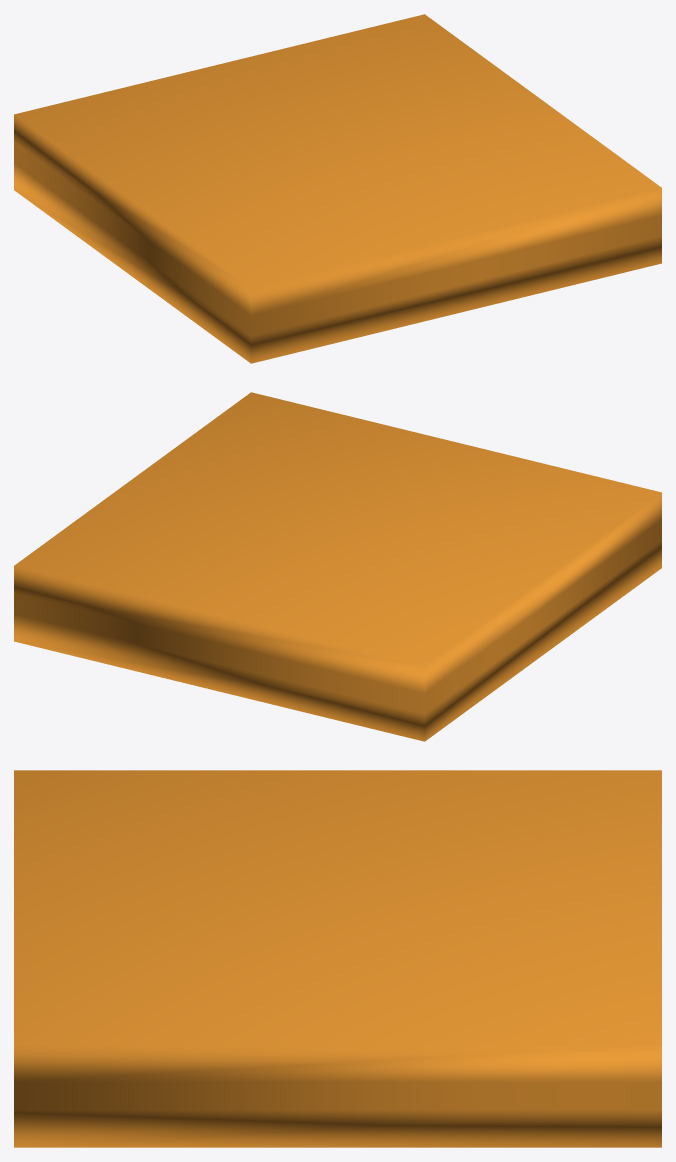
The model's file is paninferior.glb.
The picture shows the model from 3 angles, top to bottom: view 1: azimuth 30°, elevation 25°; view 2: azimuth 150°, elevation 25°; view 3: azimuth 270°, elevation 25°; orthographic projection. The views are drawn at different scales.
Parts seen in each view (by area): view 1: Panbase.001; view 2: Panbase.001; view 3: Panbase.001.
Part boxes in pixels (box(x1,y1,x2,y2)): Panbase.001: box(14, 14, 661, 363); Panbase.001: box(14, 392, 661, 741); Panbase.001: box(14, 770, 661, 1147).
Bounding box in the file's own units: 2.18 × 0.3838 × 2.18.
